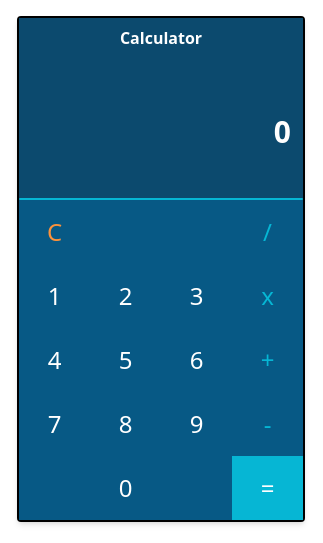
Teste do componente App › Deve subtrair 4 - 1 e o resultado deverá mostrar 3 corretamente
The image size is (323, 543).
# Clique nos botões para inserir os números e operador
Click the text with test id "4" at (54, 360), box [48,343,61,376]
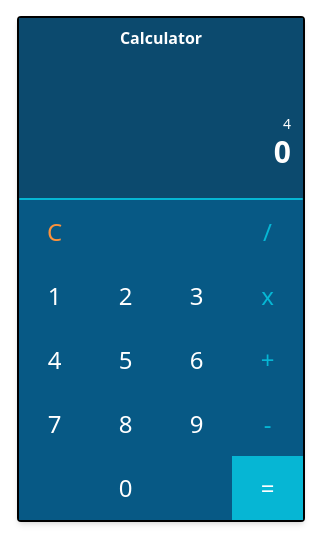
Click the text with test id "-" at (267, 424), box [264,407,271,440]
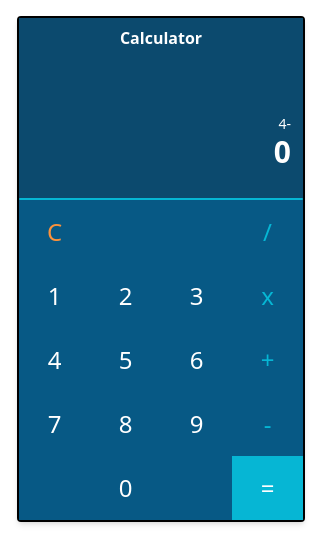
Click the text with test id "1" at (54, 296), box [48,279,61,312]
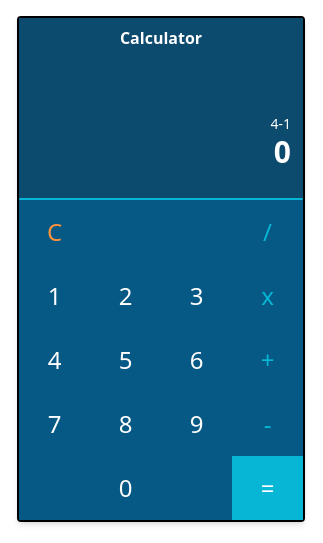
Click the text with test id "=" at (268, 488), box [232,456,303,520]
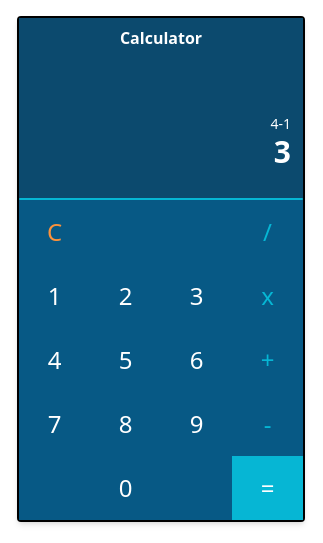
Check: the text with test id "result" reads "3", box [274,131,291,172]
